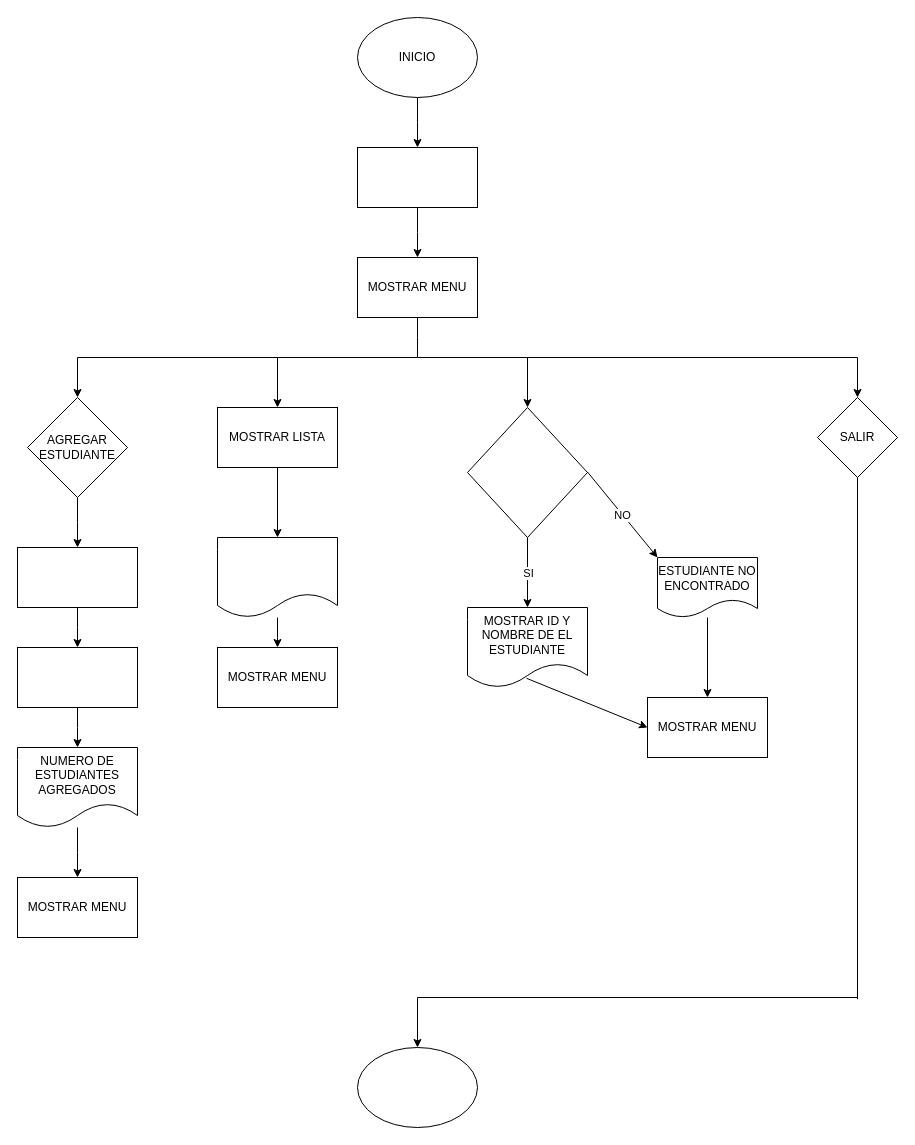
Some shapes in this 915 by 1145 pixel diagram are drawn without their labels. The centre of each missing label's shape, as x and y in pixels:
"AÑADIR ID" goes at [77,577].
"AÑADIR NOMBRE" goes at [77,677].
"BUSCAR ESTUDIANTE POR ID" goes at [527,472].
"DEFINIR ESTUDIANTE" goes at [417,177].
"FIN" goes at [417,1087].
"MOSTRAR NUMERO DE ESTUDIANTES AGREGADOS" goes at [277,577].
